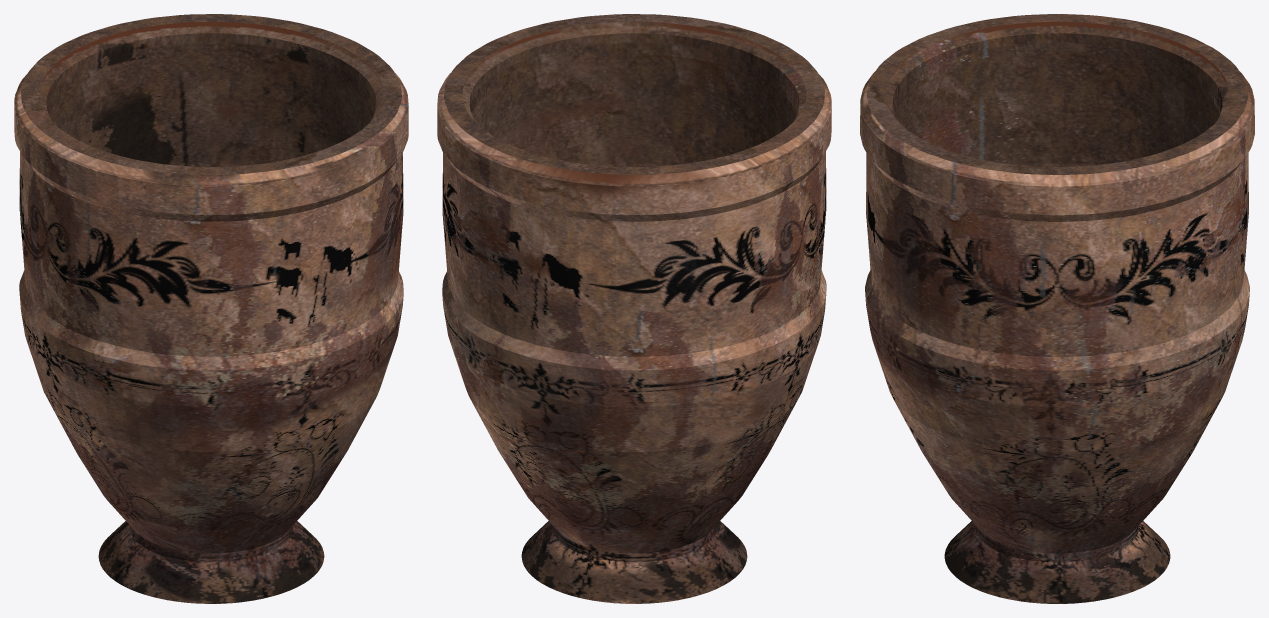
Rendered from JARRON 2.5.fbx.
The picture shows the model from 3 angles, left to right: view 1: azimuth 30°, elevation 25°; view 2: azimuth 150°, elevation 25°; view 3: azimuth 270°, elevation 25°; orthographic projection.
Visible parts, largest first — view 1: Cylinder; view 2: Cylinder; view 3: Cylinder.
Part boxes in pixels (x1,y1,x2,y2): Cylinder: [14, 14, 408, 603]; Cylinder: [437, 14, 831, 603]; Cylinder: [860, 14, 1254, 603].
Bounding box in the file's own units: 486 × 628 × 486.
